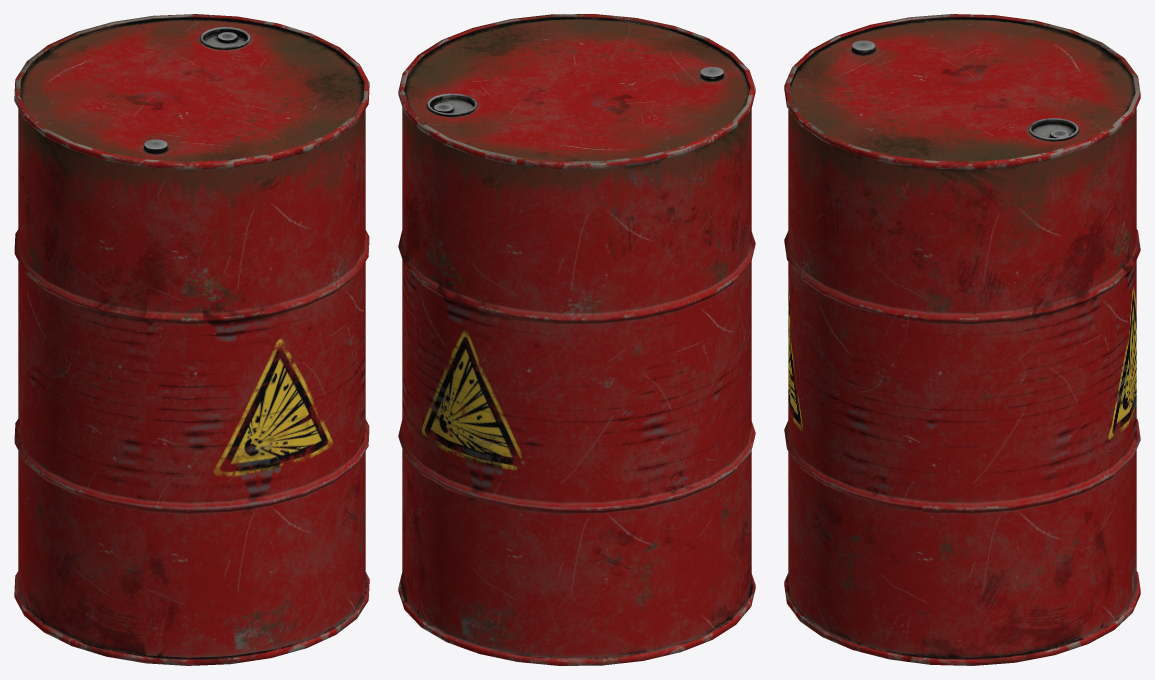
The model's file is tong.fbx.
3 renders of one model, left to right at view 1: azimuth 30°, elevation 25°; view 2: azimuth 150°, elevation 25°; view 3: azimuth 270°, elevation 25°, orthographic.
Parts seen in each view (by area): view 1: Barrel_01; view 2: Barrel_01; view 3: Barrel_01.
Boxes of the visible parts, left/top/right/bottom form: Barrel_01: left=14, top=14, right=369, bottom=665; Barrel_01: left=398, top=14, right=755, bottom=665; Barrel_01: left=784, top=14, right=1140, bottom=665.
Bounding box in the file's own units: 56.3 × 88 × 56.3.
